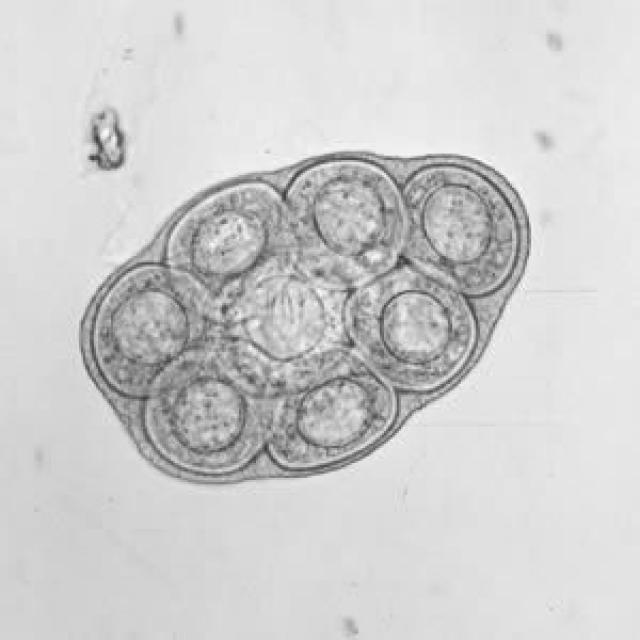Ancylostoma Spp: (48, 134, 537, 500)
